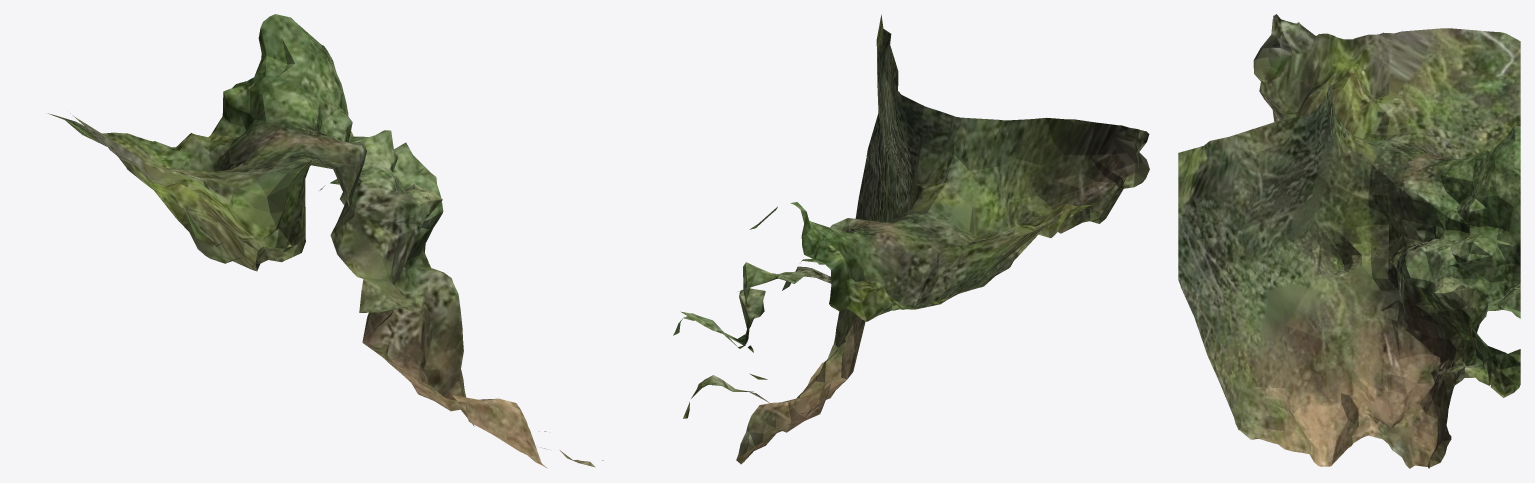
3 renders of one model, left to right at view 1: azimuth 30°, elevation 25°; view 2: azimuth 150°, elevation 25°; view 3: azimuth 270°, elevation 25°, orthographic. The views are drawn at different scales.
Bounding box in the file's own units: 5.9 × 5.9 × 5.9.
4 materials, 4 textured.
